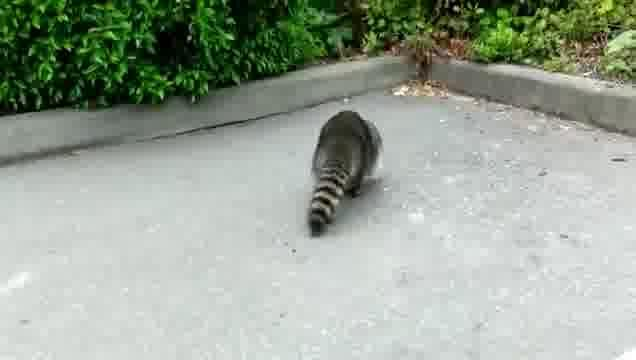raccoon: (304, 109, 386, 237)
